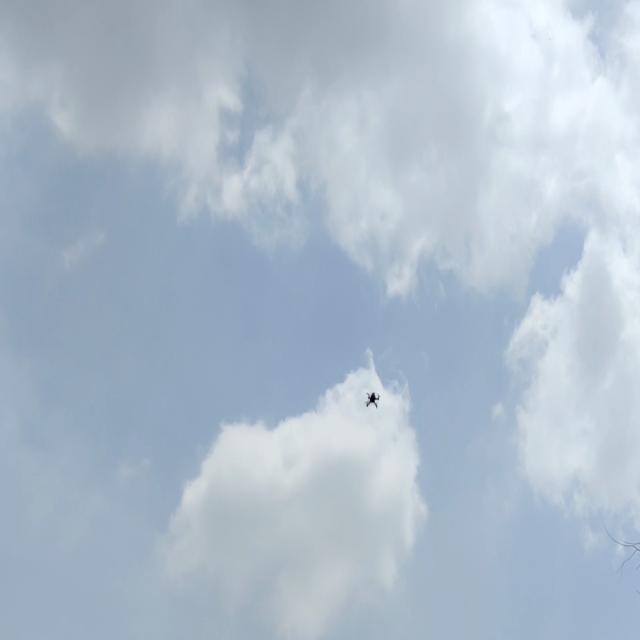drone: (362, 387, 384, 412)
